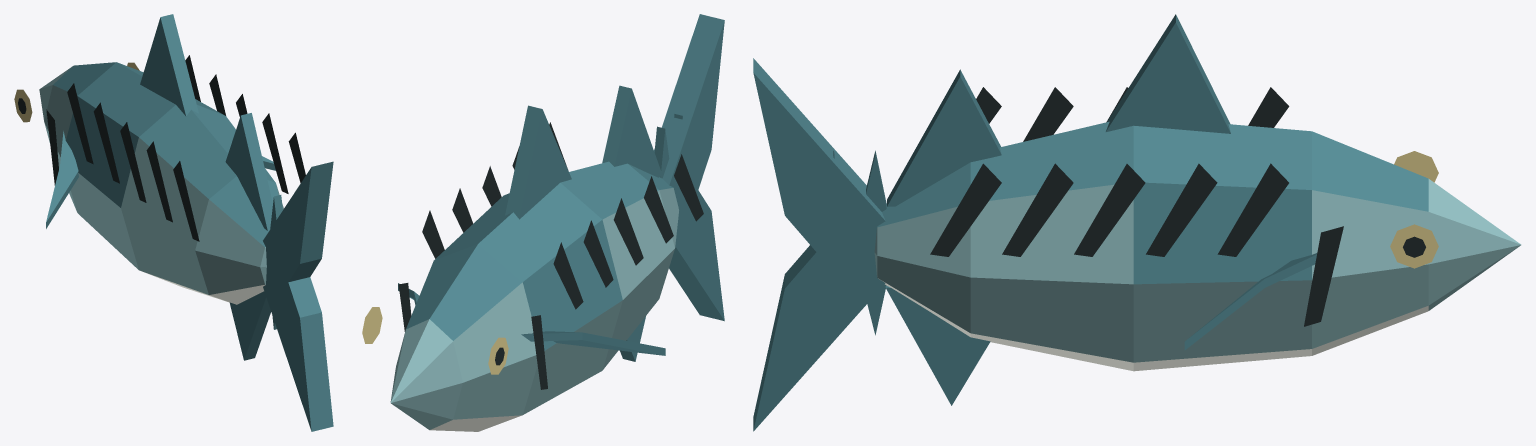
File: caballa.glb
The picture shows the model from 3 angles, left to right: view 1: azimuth 30°, elevation 25°; view 2: azimuth 150°, elevation 25°; view 3: azimuth 270°, elevation 25°; orthographic projection. The views are drawn at different scales.
Visible parts, largest first — view 1: Caballa_Mesh; view 2: Caballa_Mesh; view 3: Caballa_Mesh.
Part boxes in pixels (bbox=[...]): Caballa_Mesh: bbox=[14, 14, 333, 431]; Caballa_Mesh: bbox=[362, 14, 724, 431]; Caballa_Mesh: bbox=[753, 14, 1521, 431].
Size of the model in its own units: 0.2566 by 0.312 by 0.5346.
